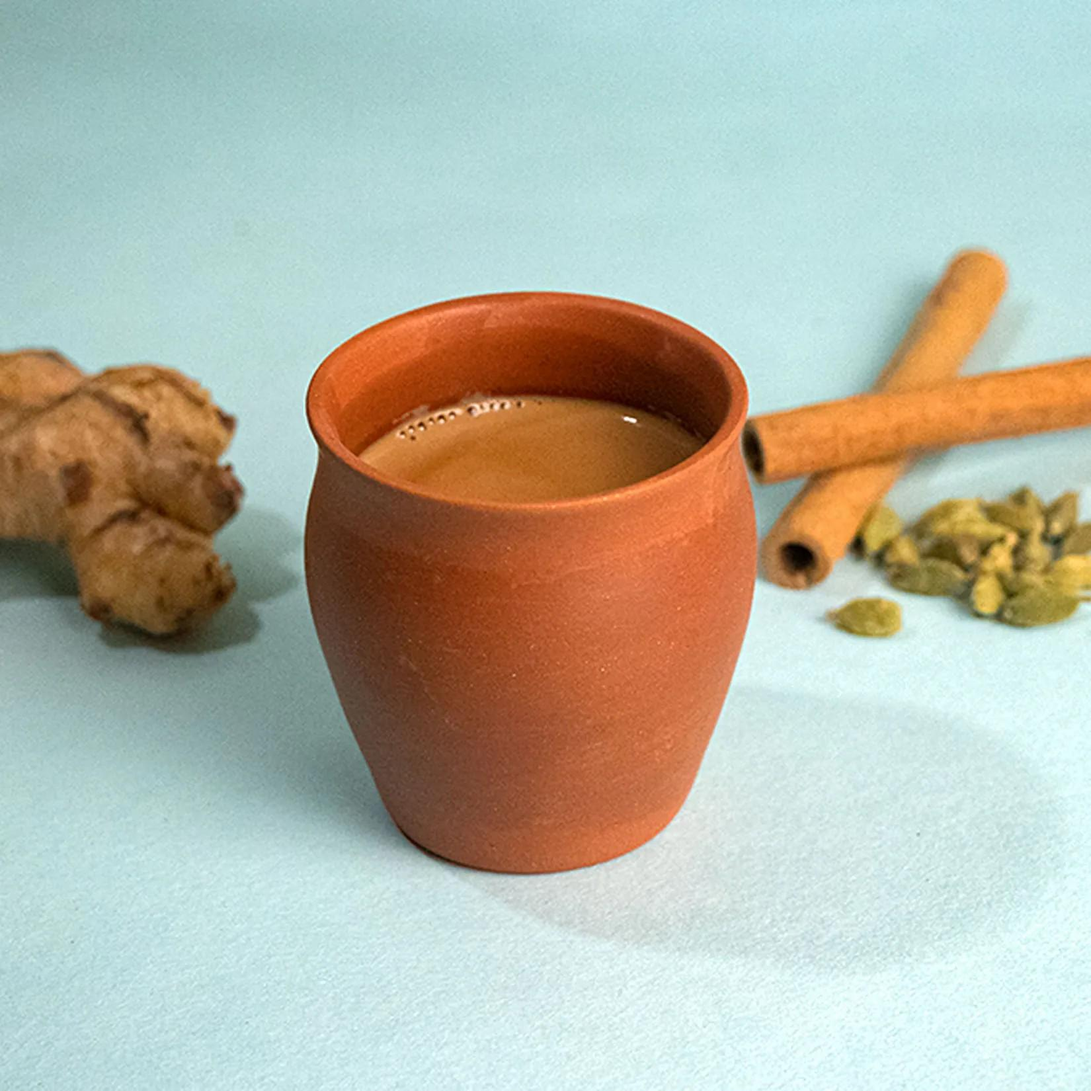Chai: (358, 385, 703, 500)
